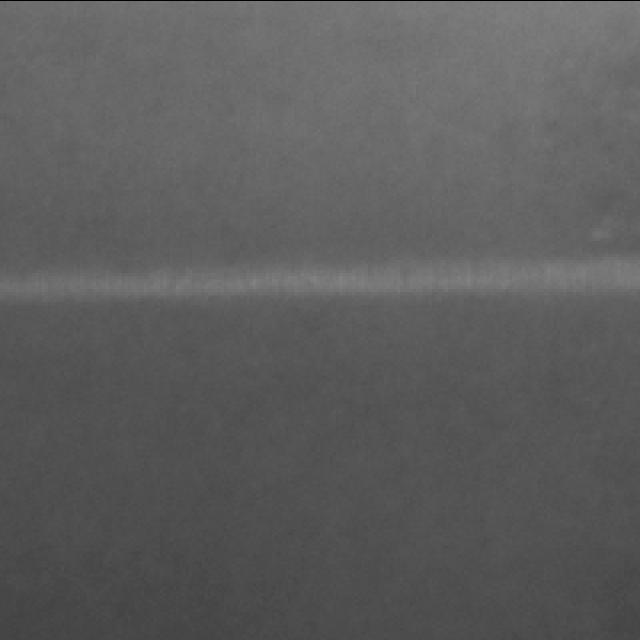scratches: (0, 246, 640, 308)
